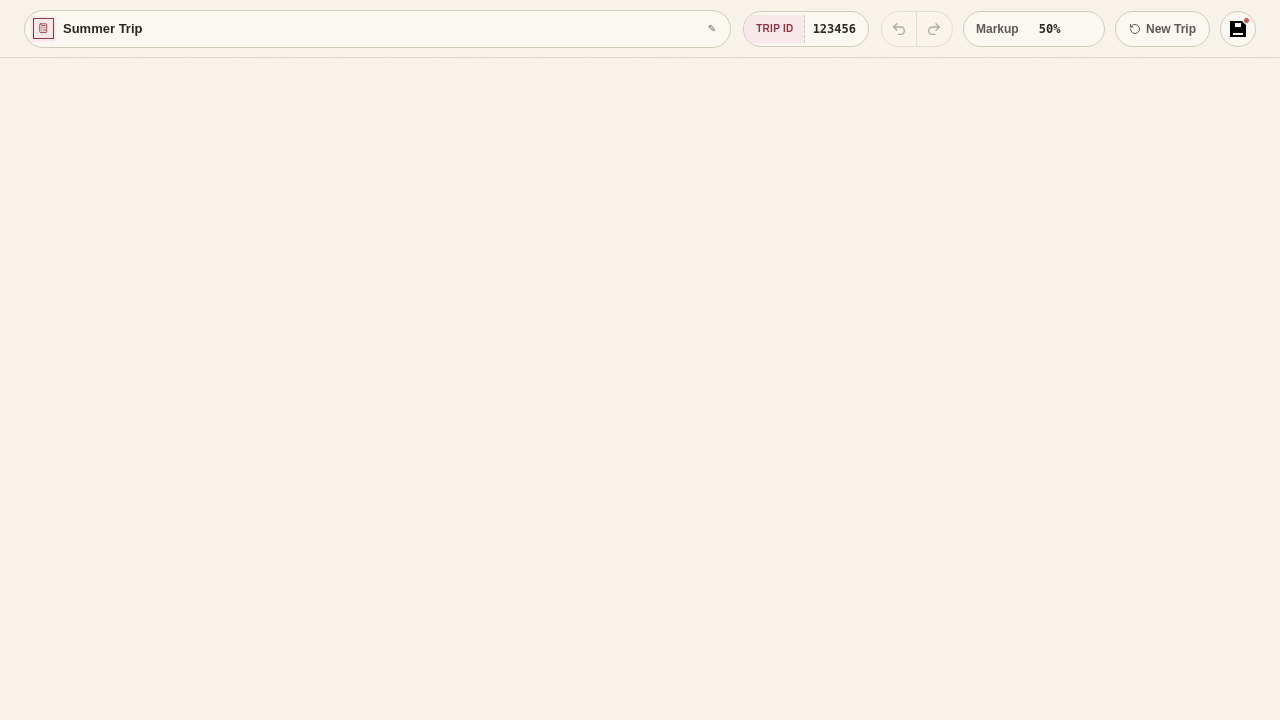
Scenario: TripToolbar › shows the saved slot when the current snapshot is saved, even if the dirty flag is set
Click the button with aria-label "Start new trip": [1162, 28] box [1115,10,1210,46]
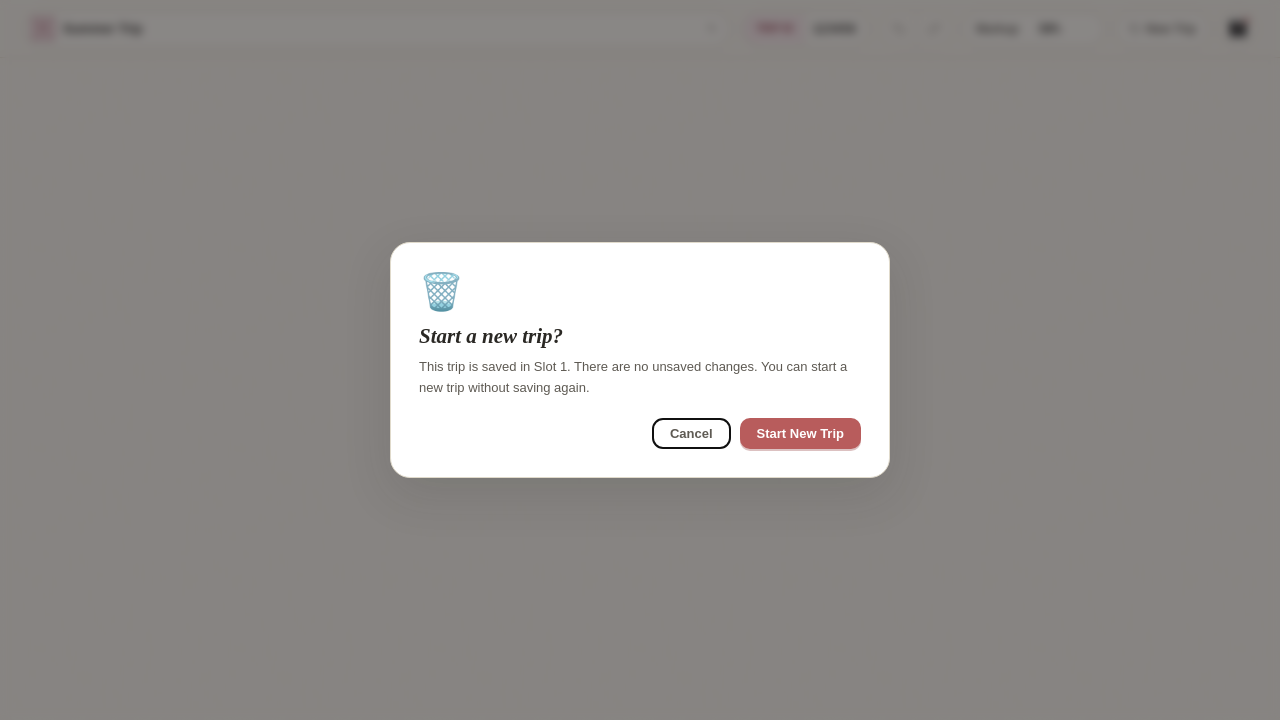
Expected: the text "There are no unsaved changes" is shown, [419,359,847,395]
